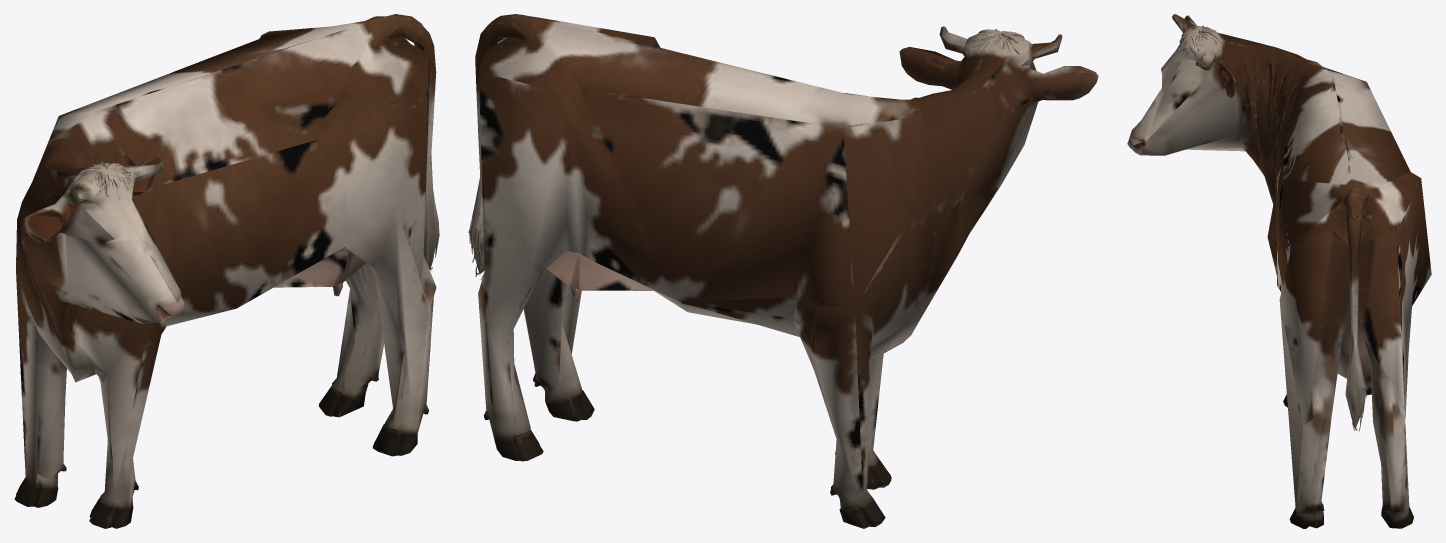
The model's file is stray_cow_fadly.glb.
The picture shows the model from 3 angles, left to right: view 1: azimuth 30°, elevation 25°; view 2: azimuth 150°, elevation 25°; view 3: azimuth 270°, elevation 25°; orthographic projection. The views are drawn at different scales.
Parts seen in each view (by area): view 1: cow 2 (10K)_modddif_material_1_0; view 2: cow 2 (10K)_modddif_material_1_0; view 3: cow 2 (10K)_modddif_material_1_0.
Part boxes in pixels (x1=…): cow 2 (10K)_modddif_material_1_0: x1=14, y1=14, x2=439, y2=528; cow 2 (10K)_modddif_material_1_0: x1=468, y1=14, x2=1098, y2=528; cow 2 (10K)_modddif_material_1_0: x1=1127, y1=14, x2=1431, y2=528.
Bounding box in the file's own units: 1 × 0.7713 × 0.6121.
Materials: 1 (1 with a texture image).
